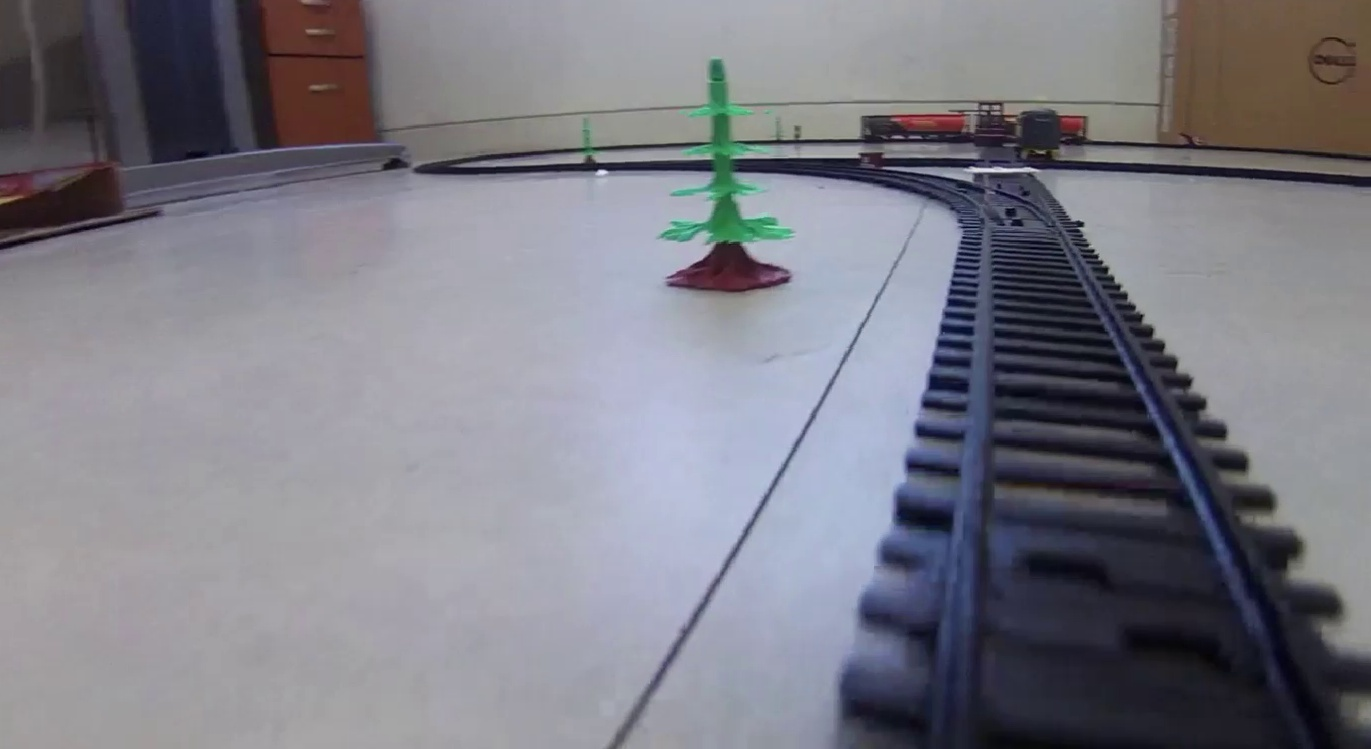tree: (658, 57, 790, 289)
